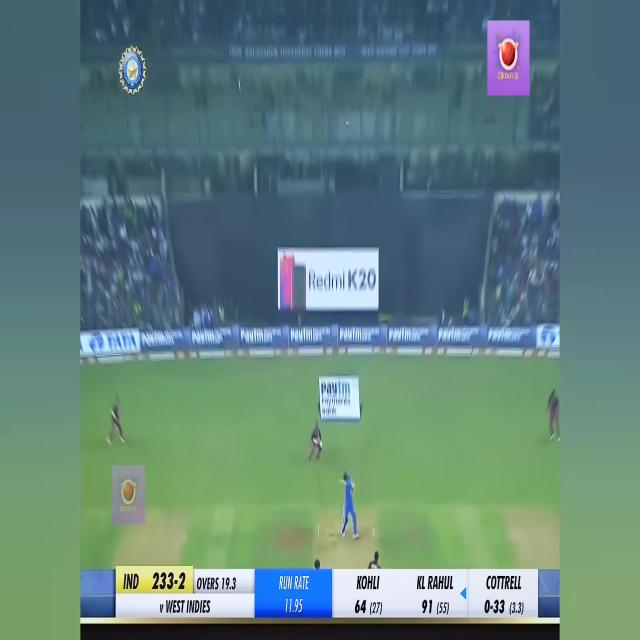fully_visible: (321, 378, 351, 400), (288, 322, 313, 346), (340, 322, 362, 344), (388, 325, 412, 344)
